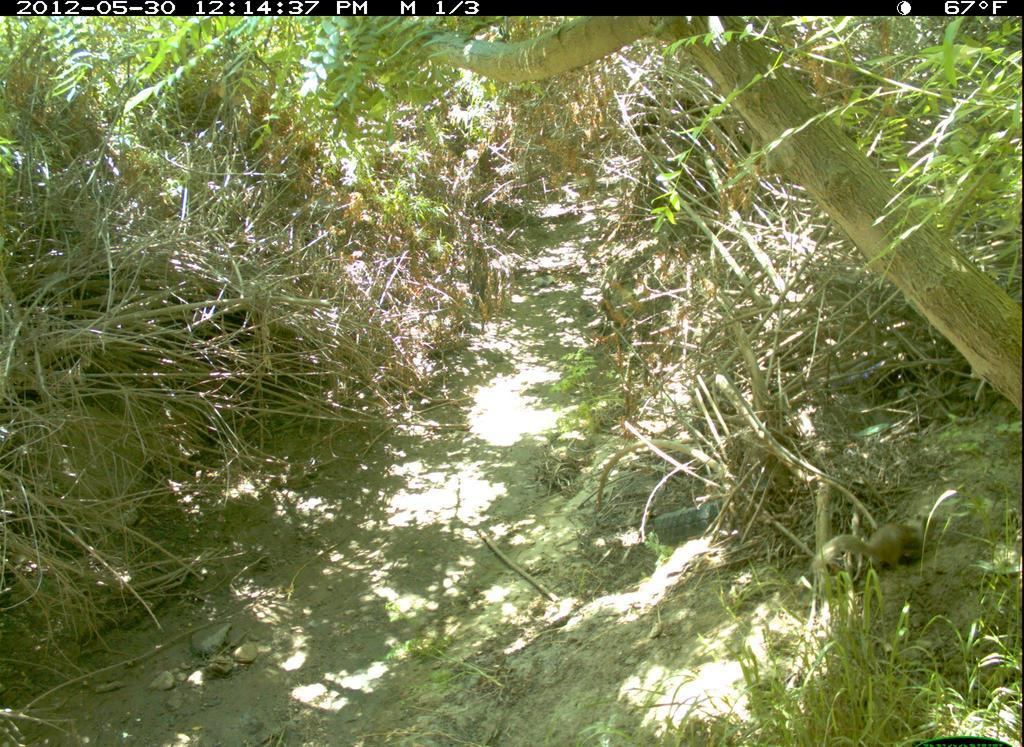squirrel: (803, 513, 939, 607)
